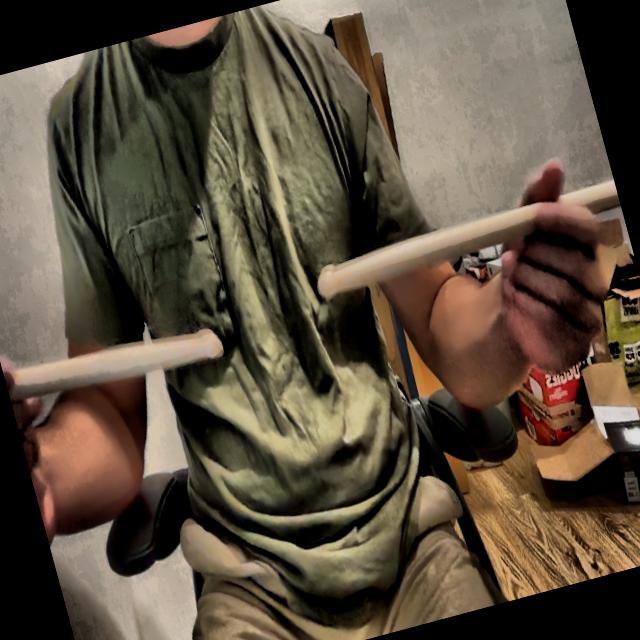Drumstick-Heads: (307, 253, 345, 304), (190, 318, 228, 367)
